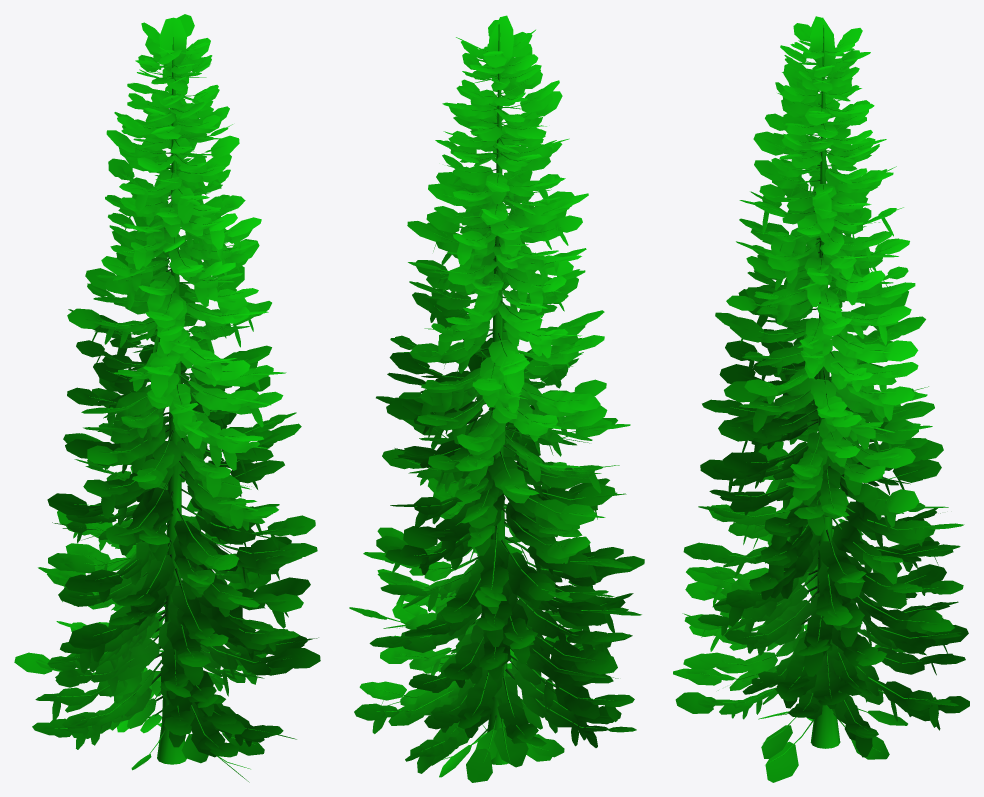
Rendered from tree_spruce_b.glb.
3 views of the same model, side by side, from view 1: azimuth 30°, elevation 25°; view 2: azimuth 150°, elevation 25°; view 3: azimuth 270°, elevation 25° (orthographic). The views are drawn at different scales.
Visible parts, largest first — view 1: tree_spruce_b.2, tree_spruce_b.0, tree_spruce_b.1; view 2: tree_spruce_b.2, tree_spruce_b.0, tree_spruce_b.1; view 3: tree_spruce_b.2, tree_spruce_b.0, tree_spruce_b.1.
Boxes of the visible parts, x1,y1,x2,y2 form: tree_spruce_b.2: [14, 14, 320, 757]; tree_spruce_b.0: [55, 37, 292, 769]; tree_spruce_b.1: [107, 698, 264, 782]; tree_spruce_b.2: [349, 15, 644, 773]; tree_spruce_b.0: [376, 24, 616, 764]; tree_spruce_b.1: [439, 698, 564, 782]; tree_spruce_b.2: [673, 16, 969, 757]; tree_spruce_b.0: [700, 25, 948, 764]; tree_spruce_b.1: [758, 694, 907, 782].
Size of the model in its own units: 7.25 by 19.7 by 7.15.
